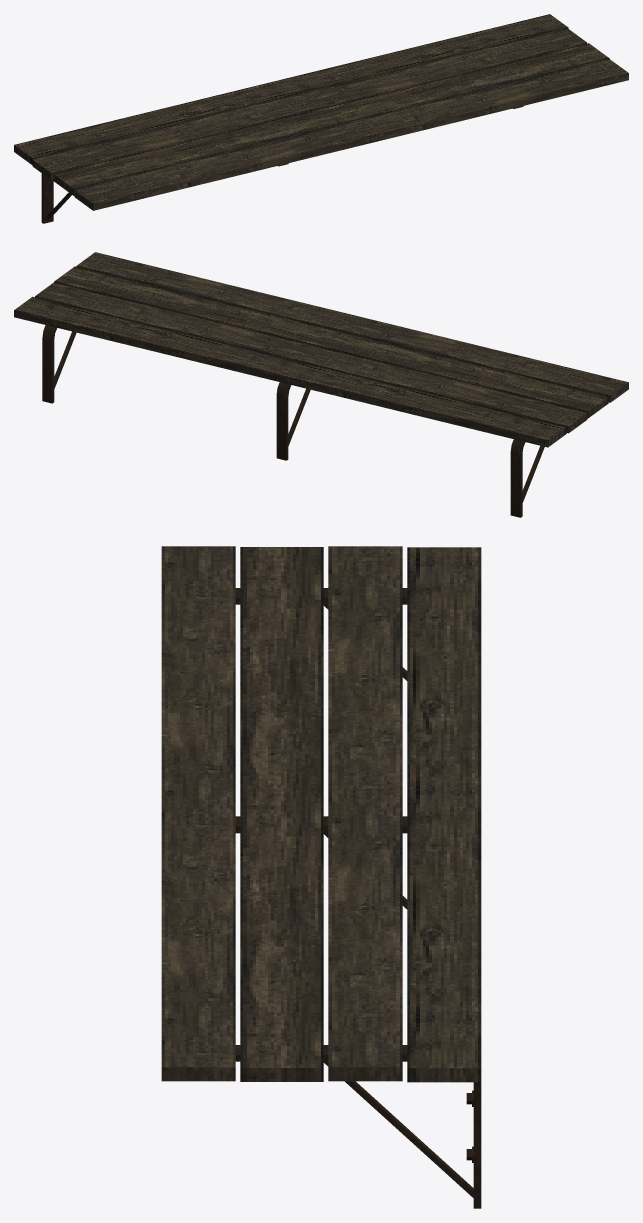
File: hanging_shelf_mx_3_1.glb
The picture shows the model from 3 angles, top to bottom: view 1: azimuth 30°, elevation 25°; view 2: azimuth 150°, elevation 25°; view 3: azimuth 270°, elevation 25°; orthographic projection. The views are drawn at different scales.
Visible parts, largest first — view 1: hanging_shelf_mx_3_1; view 2: hanging_shelf_mx_3_1; view 3: hanging_shelf_mx_3_1.
Part boxes in pixels (x1,y1,x2,y2): hanging_shelf_mx_3_1: [14, 14, 628, 223]; hanging_shelf_mx_3_1: [14, 252, 628, 517]; hanging_shelf_mx_3_1: [161, 546, 481, 1208].
Size of the model in its own units: 1.6 by 0.24 by 0.414.
2 materials, 2 textured.
